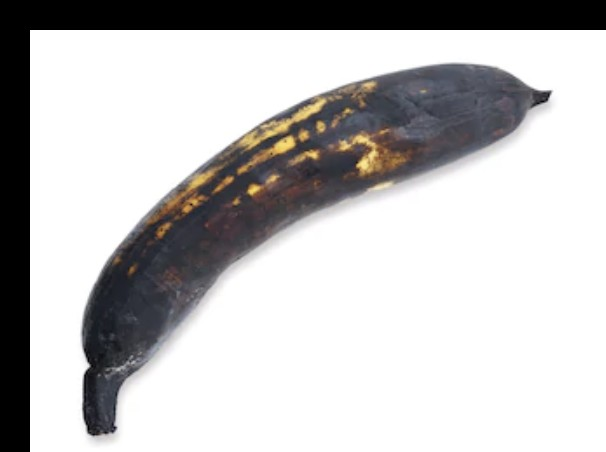rotten_banana: (81, 63, 554, 436)
